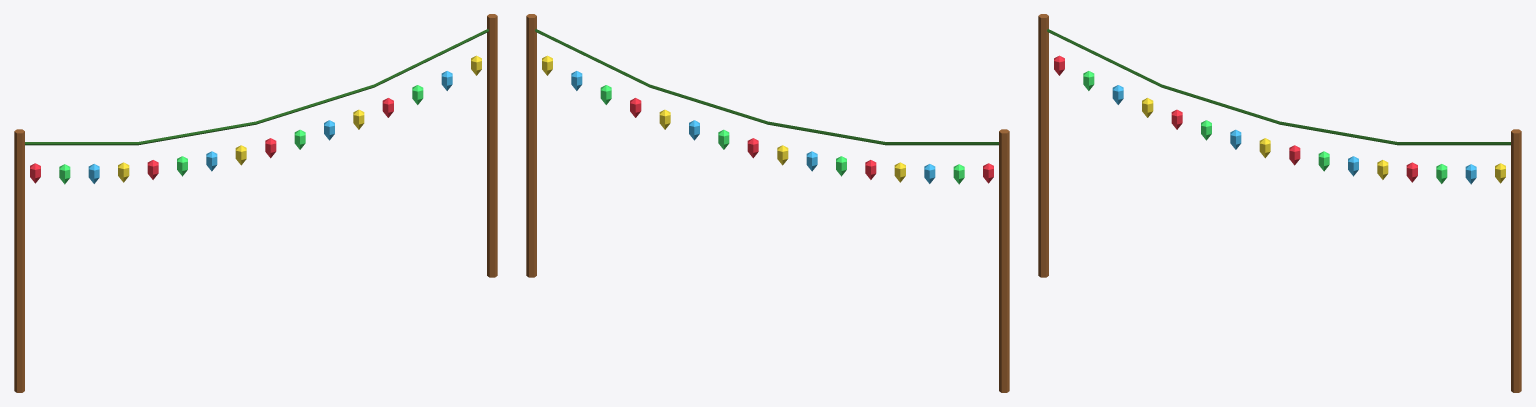
The model's file is ChristmasLights.fbx.
The picture shows the model from 3 angles, left to right: view 1: azimuth 30°, elevation 25°; view 2: azimuth 150°, elevation 25°; view 3: azimuth 330°, elevation 25°; orthographic projection.
Visible parts, largest first — view 1: ChristmasLights; view 2: ChristmasLights; view 3: ChristmasLights.
Part boxes in pixels (x1=…): ChristmasLights: x1=14, y1=14, x2=497, y2=392; ChristmasLights: x1=526, y1=14, x2=1009, y2=392; ChristmasLights: x1=1038, y1=14, x2=1521, y2=392.
Bounding box in the file's own units: 12.21 × 6.3 × 0.2425.
1 material, 1 textured.
